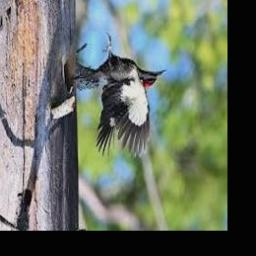Woodpecker: (71, 33, 167, 158)
